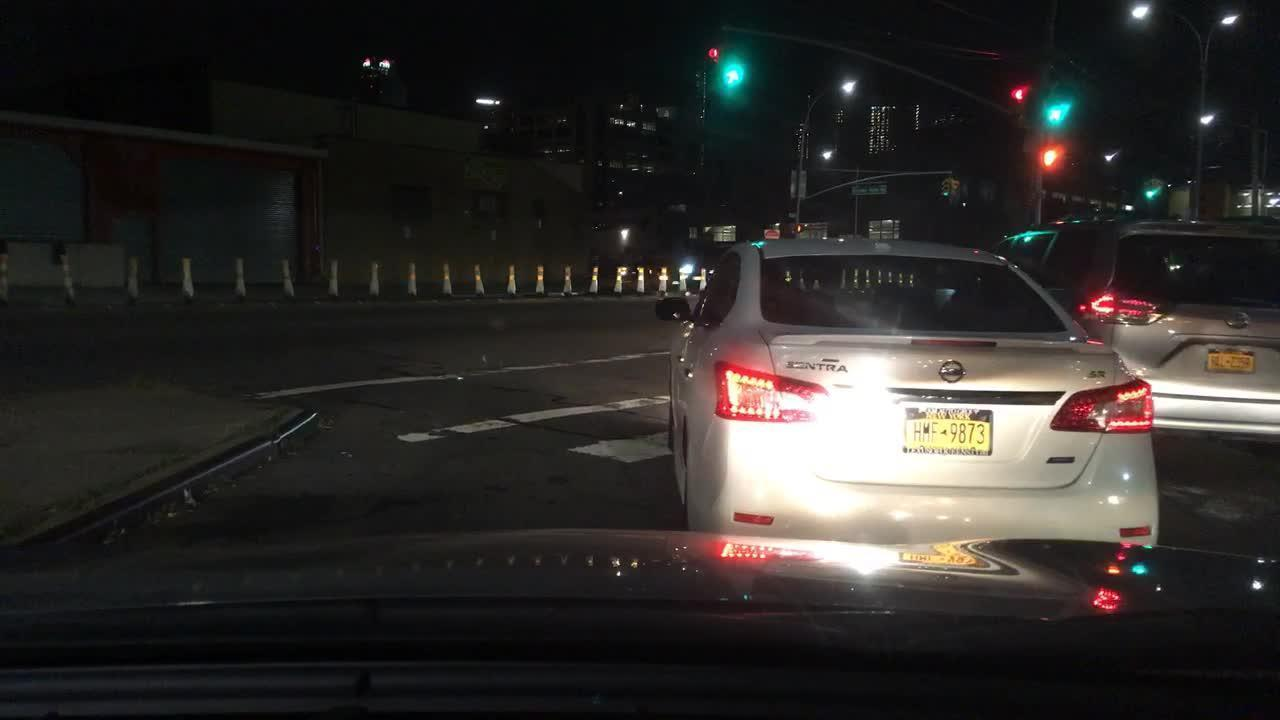Nissan: (939, 354, 976, 394)
